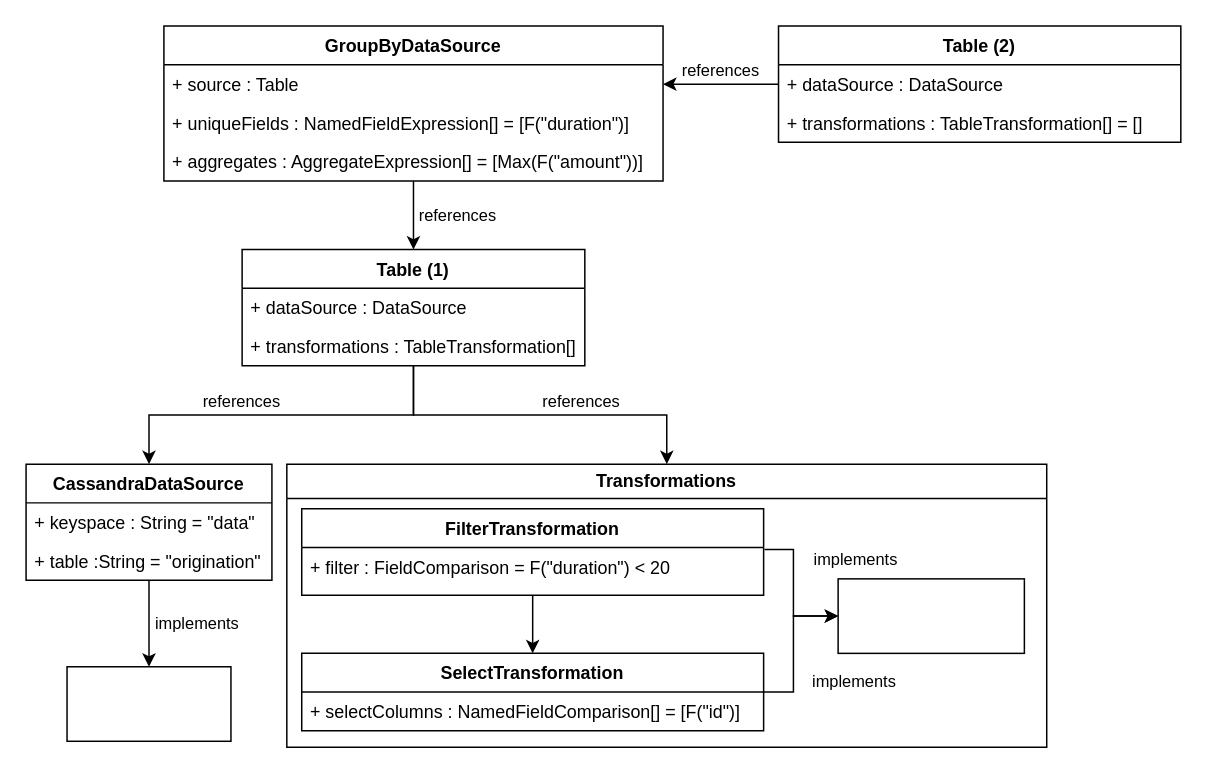
Image size: 1207x773. Some labels were removed from this diagram. The shapes that lost their labels are listed below. From the top down, each one's centre as x and y in pixels, then its label:
[930,615]: «interface» TableTransformation
[148,703]: «interface» DataSource
